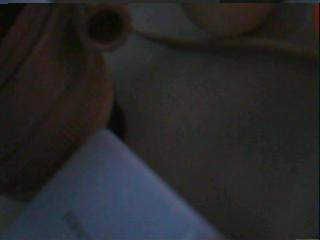oball: (315, 5, 320, 35)
